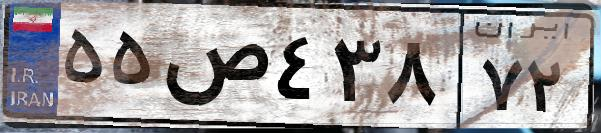2: (525, 38, 570, 115)
3: (330, 28, 385, 110)
4: (270, 28, 330, 110)
5: (57, 26, 110, 100), (110, 28, 158, 98)
7: (475, 38, 525, 113)
8: (385, 28, 445, 110)
ص: (158, 20, 270, 120)
